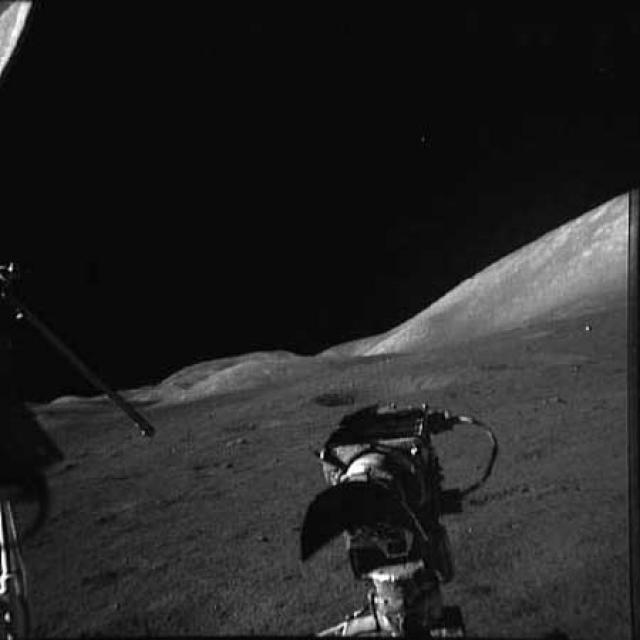artifact: (0, 246, 158, 639), (282, 388, 514, 639), (306, 382, 386, 414)
crater: (461, 344, 601, 378), (296, 374, 458, 402)
